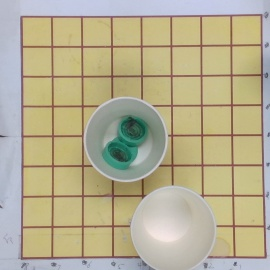cup: (132, 186, 217, 270)
cup_green: (86, 96, 169, 184)
